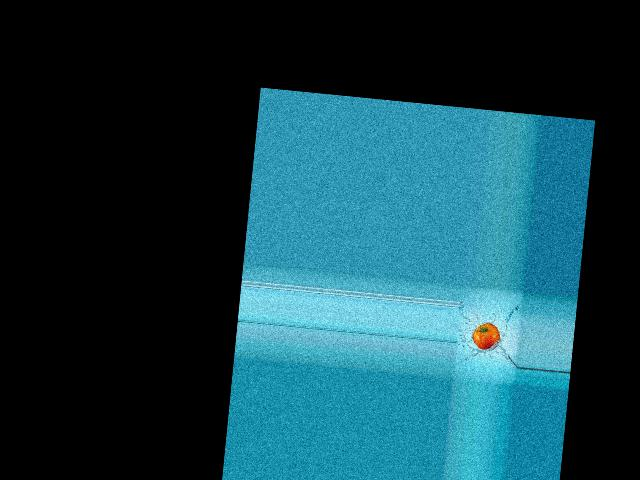tomato: (471, 322, 501, 351)
